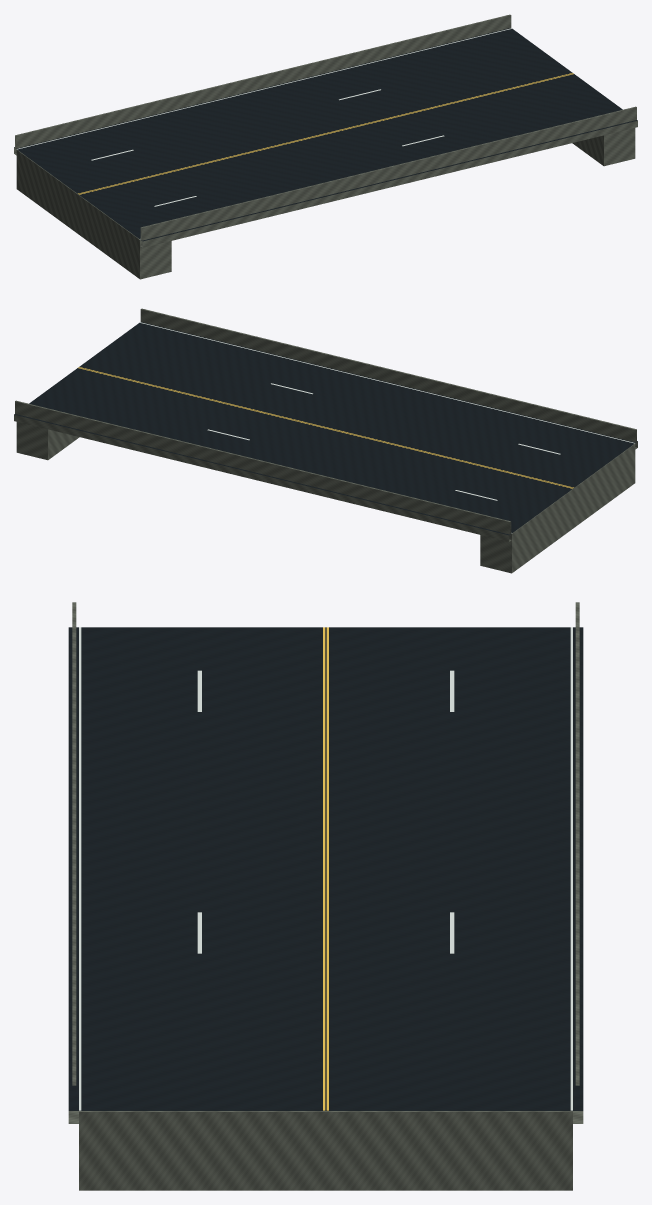
File: bridge_4lane_32m_LOD2.glb
The picture shows the model from 3 angles, top to bottom: view 1: azimuth 30°, elevation 25°; view 2: azimuth 150°, elevation 25°; view 3: azimuth 270°, elevation 25°; orthographic projection. The views are drawn at different scales.
Parts seen in each view (by area): view 1: bridge_4lane_32m__deck.002, bridge_4lane_32m__pier.002; view 2: bridge_4lane_32m__deck.002, bridge_4lane_32m__pier.002; view 3: bridge_4lane_32m__deck.002, bridge_4lane_32m__pier.002.
Boxes of the visible parts, x1,y1,x2,y2 form: bridge_4lane_32m__deck.002: (14, 14, 637, 247); bridge_4lane_32m__pier.002: (16, 128, 635, 279); bridge_4lane_32m__deck.002: (14, 308, 637, 541); bridge_4lane_32m__pier.002: (16, 422, 635, 573); bridge_4lane_32m__deck.002: (68, 602, 583, 1123); bridge_4lane_32m__pier.002: (79, 1111, 572, 1190).
Bounding box in the file's own units: 32 × 4.19 × 14.4.
Materials: 4 (2 with a texture image).
